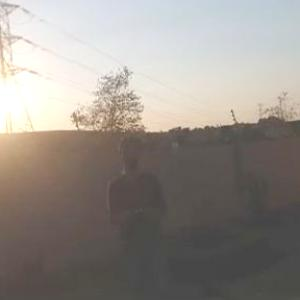follow: (105, 128, 175, 299)
